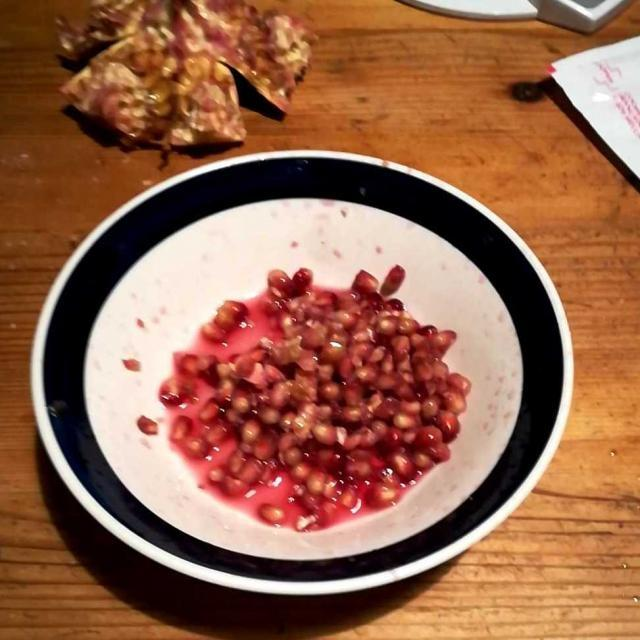pomegranate: (164, 275, 460, 530)
